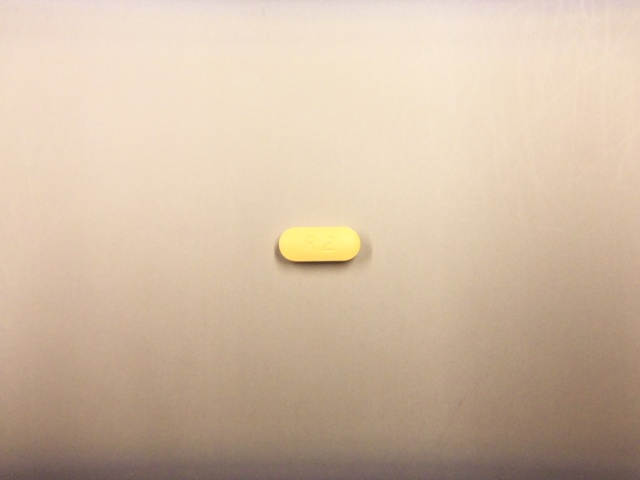2: (321, 232, 339, 255)
R: (302, 232, 320, 254)
